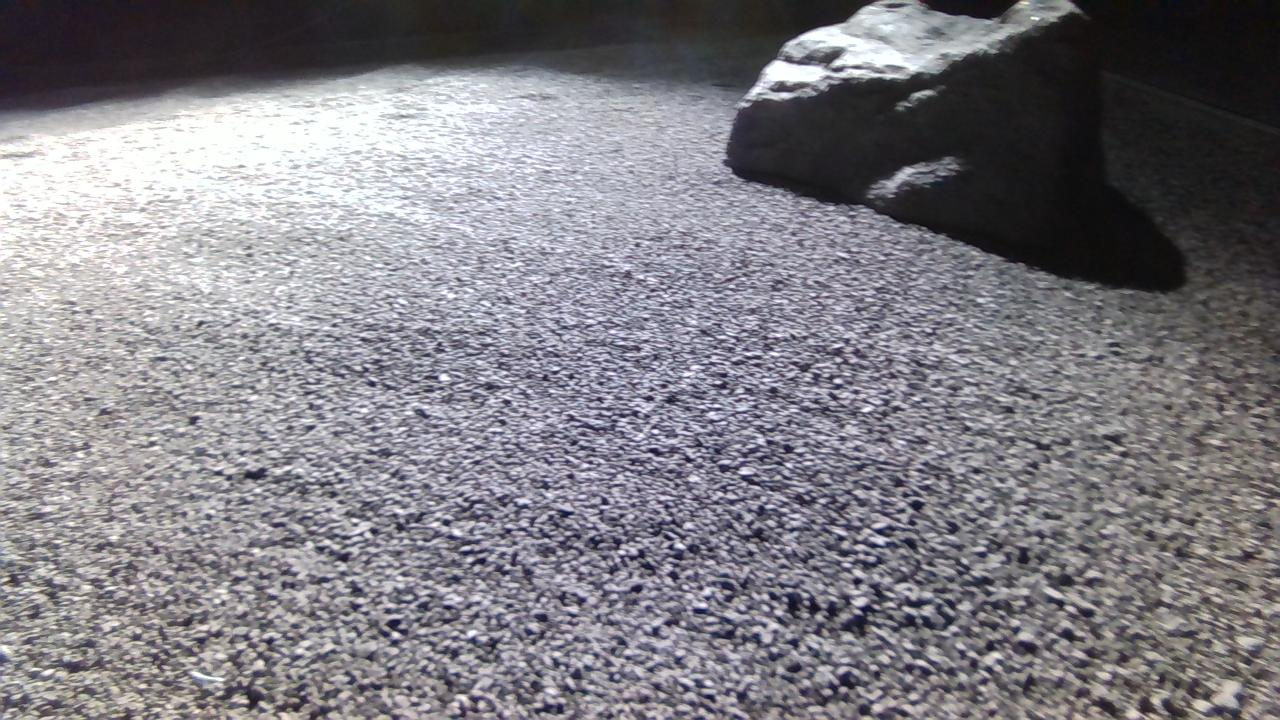rock: (729, 0, 1106, 243)
